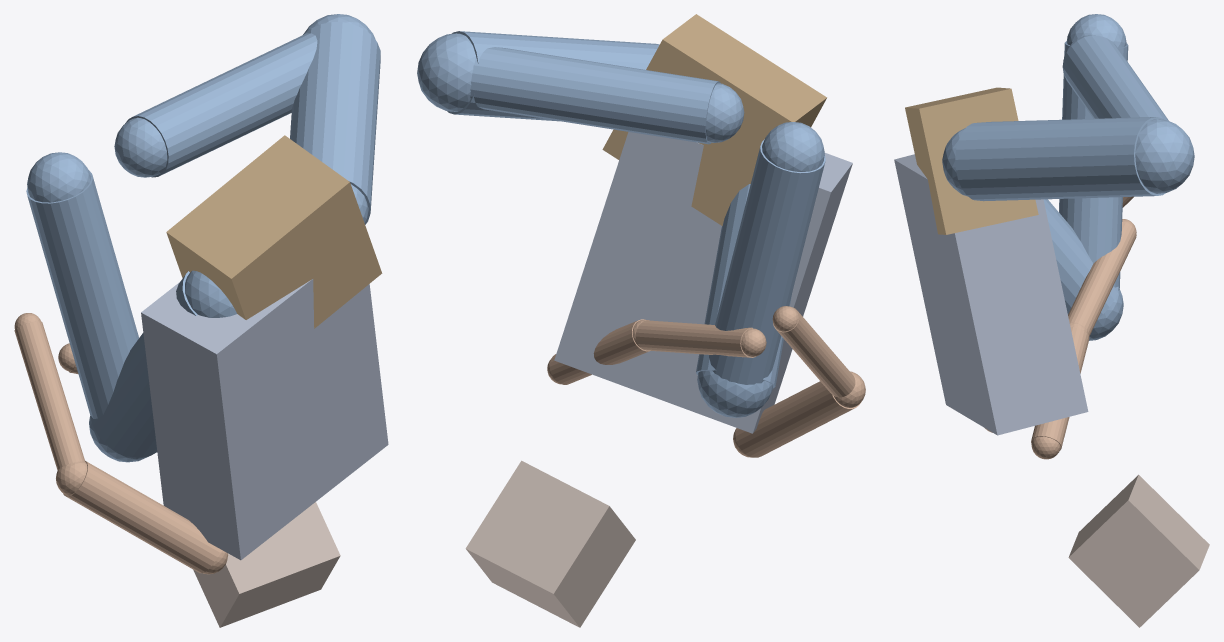
Rendered from structure_maquette.glb.
3 views of the same model, side by side, from view 1: azimuth 30°, elevation 25°; view 2: azimuth 150°, elevation 25°; view 3: azimuth 270°, elevation 25° (orthographic). The views are drawn at different scales.
Parts seen in each view (by area): view 1: world; view 2: world; view 3: world.
Part boxes in pixels (x1=…): world: x1=14, y1=14, x2=388, y2=627; world: x1=417, y1=14, x2=865, y2=627; world: x1=894, y1=14, x2=1209, y2=627.
Size of the model in its own units: 0.6497 by 0.9367 by 0.5005.
